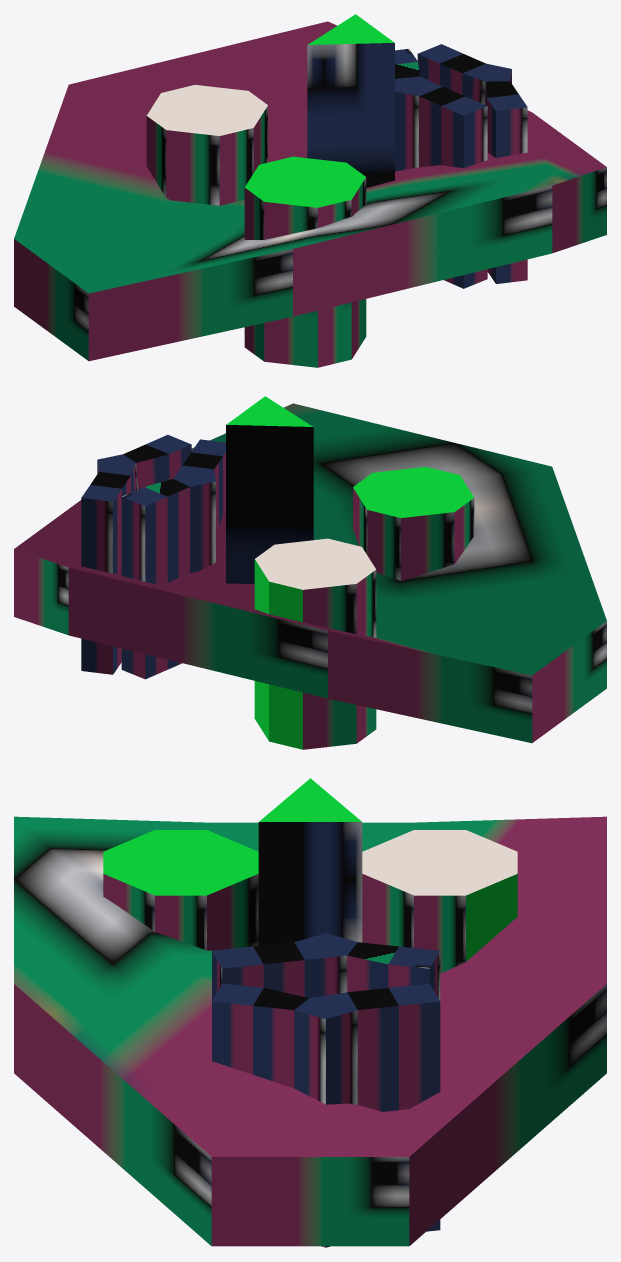
The model's file is mask_base.obj.
The picture shows the model from 3 angles, top to bottom: view 1: azimuth 30°, elevation 25°; view 2: azimuth 150°, elevation 25°; view 3: azimuth 270°, elevation 25°; orthographic projection. The views are drawn at different scales.
Parts seen in each view (by area): view 1: mask_base; view 2: mask_base; view 3: mask_base.
Part boxes in pixels (x1,y1,x2,y2): mask_base: (14, 14, 606, 367); mask_base: (14, 396, 606, 749); mask_base: (14, 778, 606, 1247).
Size of the model in its own units: 7.63 by 3.55 by 5.72.
Materials: 1 (1 with a texture image).
